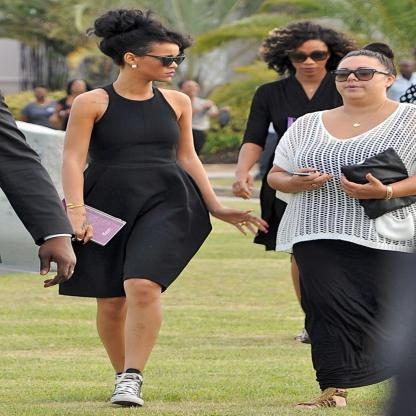face: (134, 42, 180, 84), (336, 57, 381, 99), (291, 41, 329, 76)
